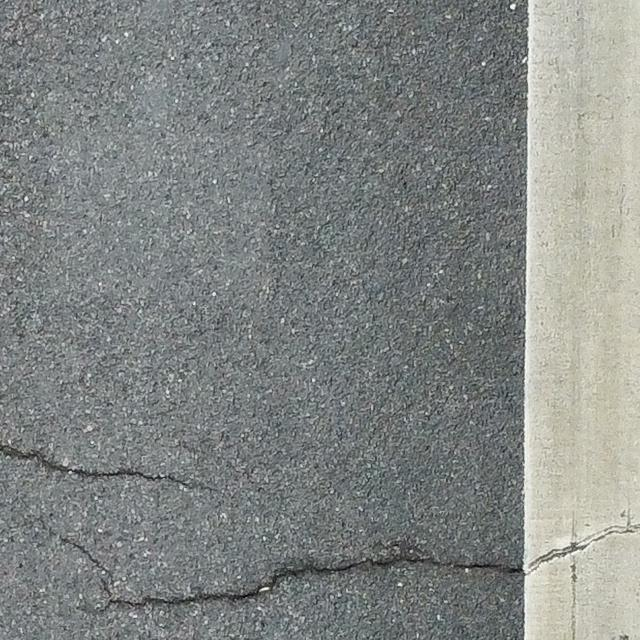TransverseCrack: (55, 521, 640, 618), (1, 443, 210, 490)
